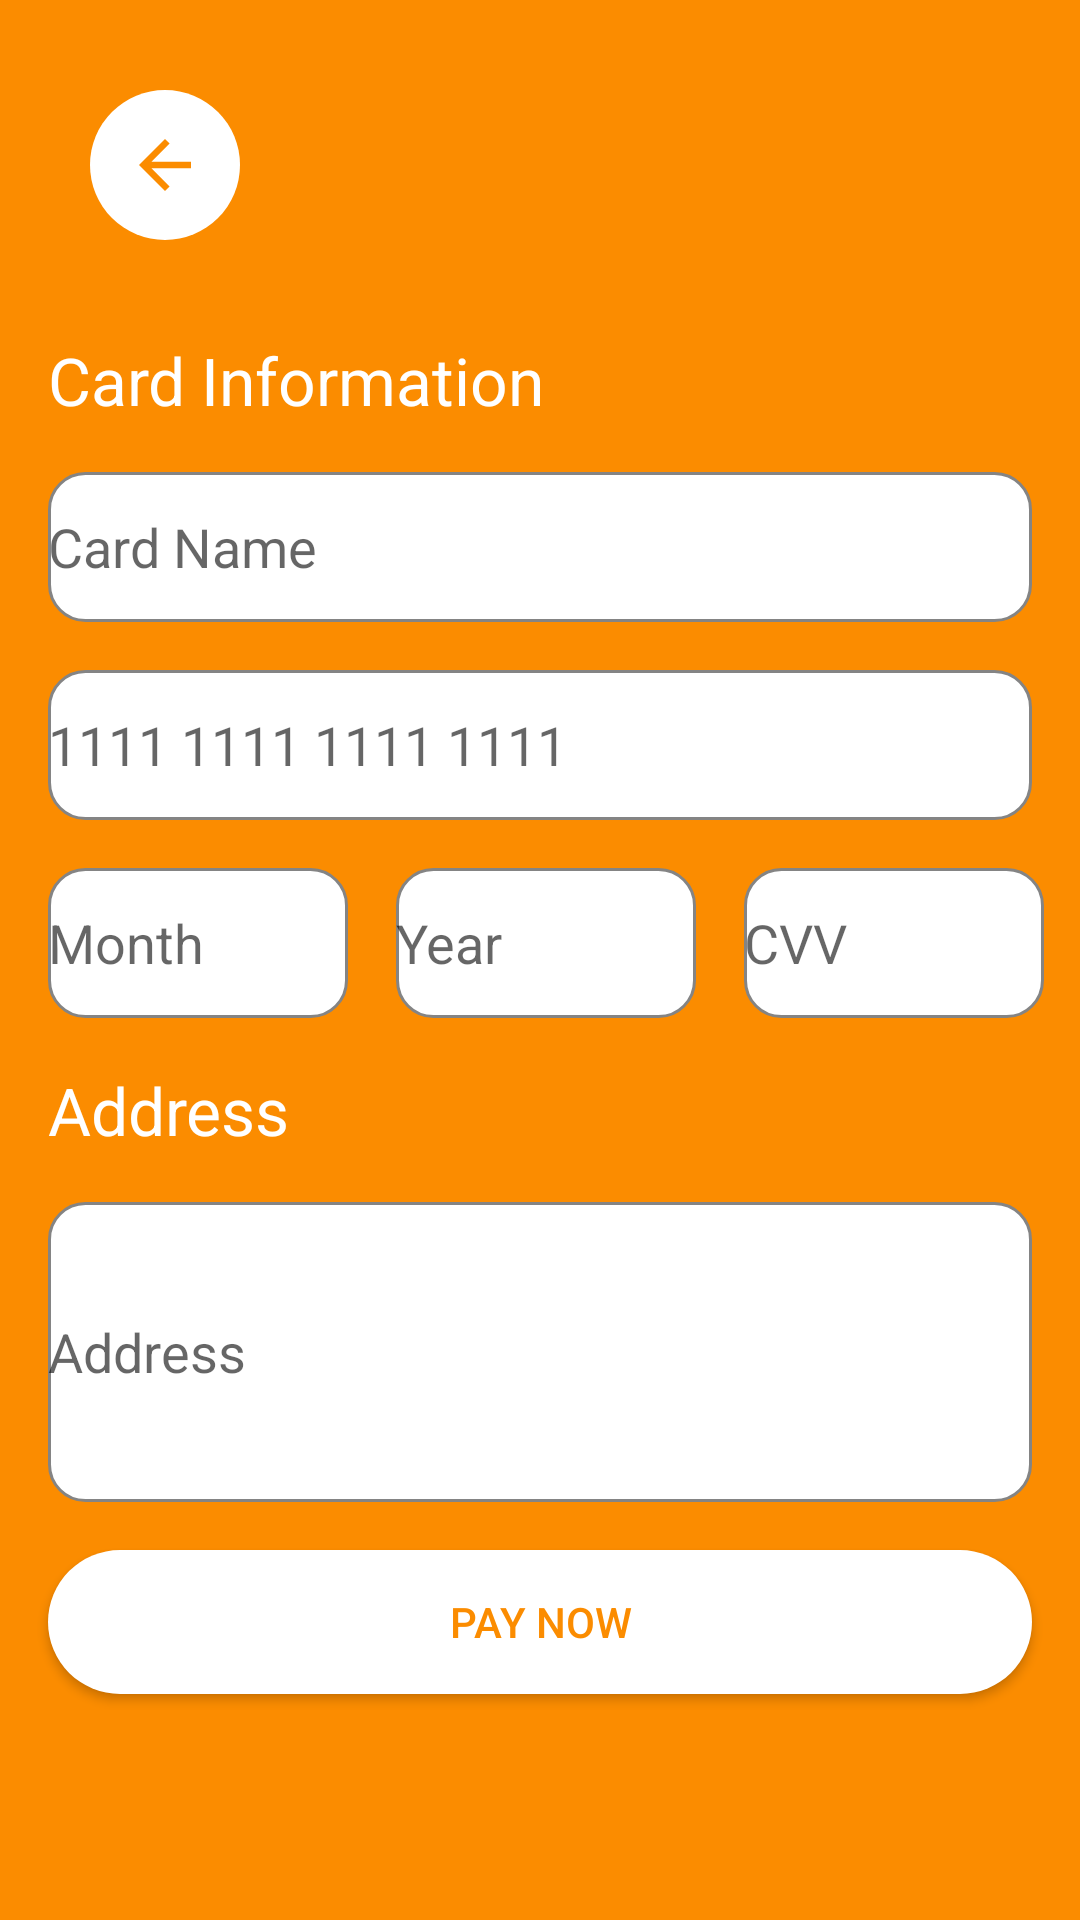

Icon click points for this 1080*1920 phone screenshot, format (x=x, y=y):
arrow back: (x=165, y=165)
